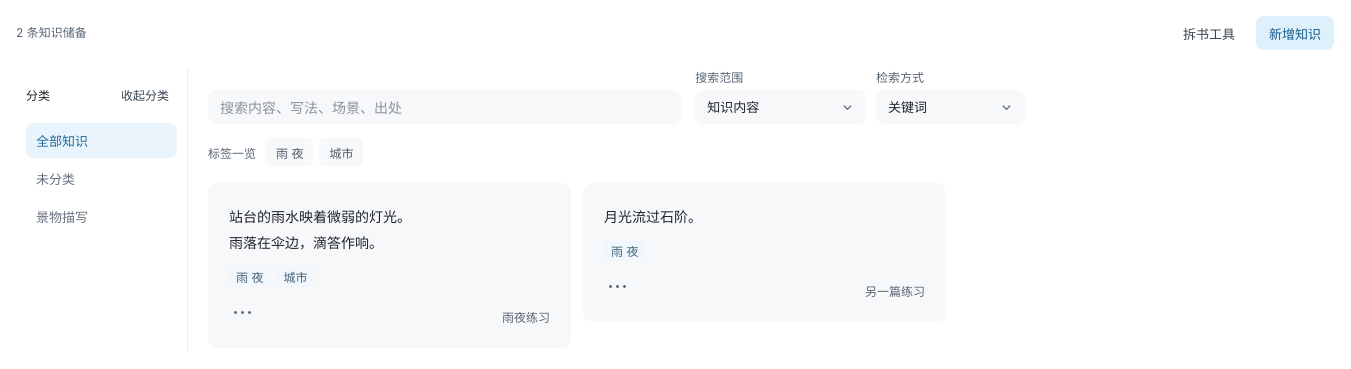
Test case: 知识卡片与搜索 › 错配回执提示失败，不展示跨作品错误匹配的内容
This screenshot has width=1351, height=369.
In the search field named "模糊搜索知识与正文": (445, 107) [208, 90, 681, 124], type "雨"
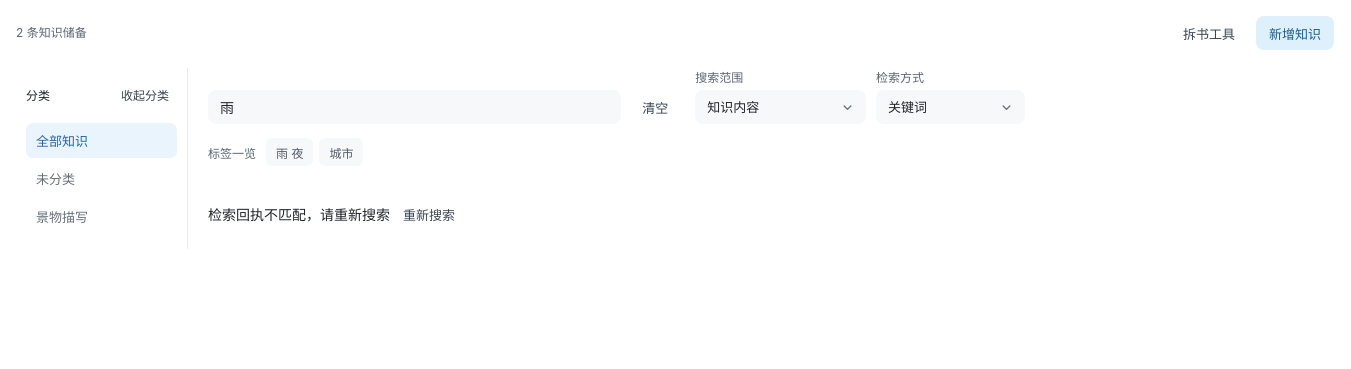
Now the message shows "检索回执不匹配", box [208, 206, 390, 222]
